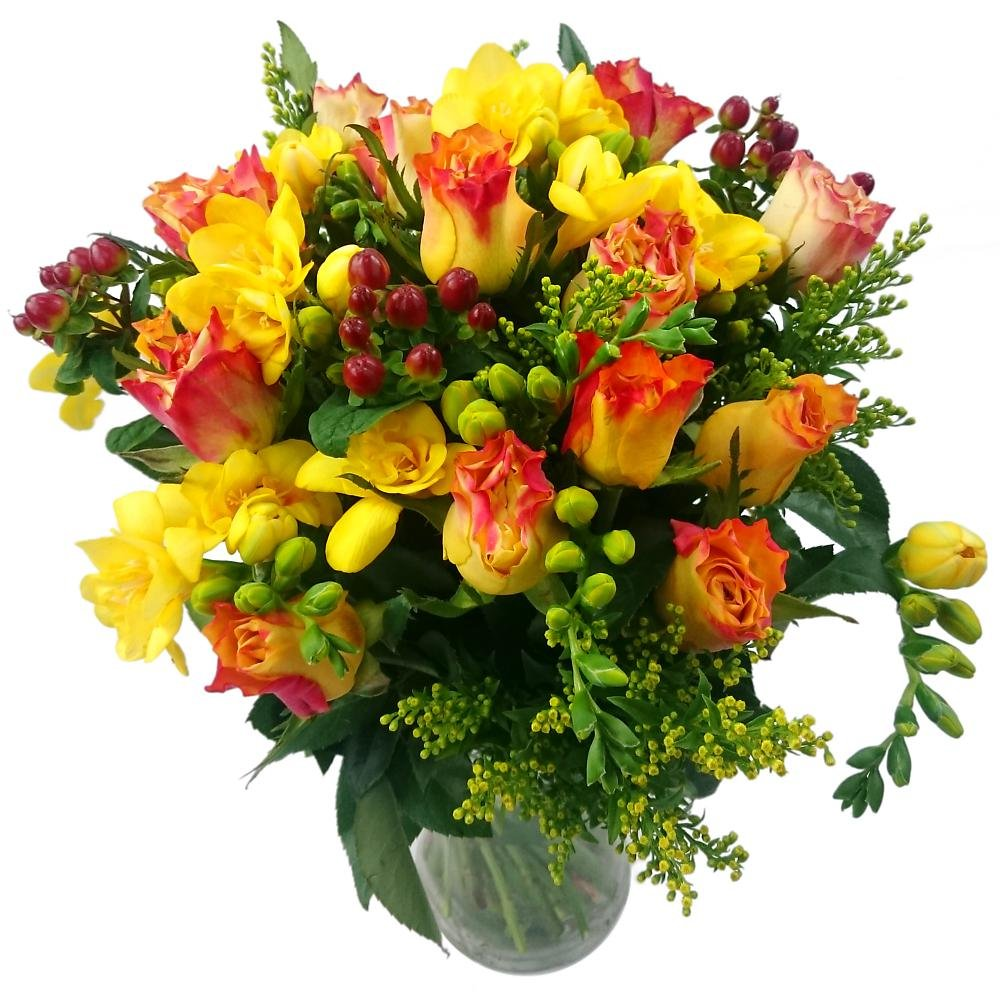Orange: (114, 309, 282, 461), (571, 331, 708, 497), (196, 595, 364, 715), (705, 384, 855, 507), (439, 438, 553, 591), (669, 521, 791, 653), (135, 145, 280, 252), (408, 151, 519, 289), (577, 202, 696, 328), (595, 46, 715, 165)
Yellow: (300, 399, 469, 571), (70, 490, 202, 678), (163, 223, 301, 381), (433, 40, 558, 156), (169, 448, 282, 559), (662, 165, 769, 277), (546, 136, 659, 237), (531, 64, 623, 154), (905, 518, 988, 589), (261, 122, 341, 187)
